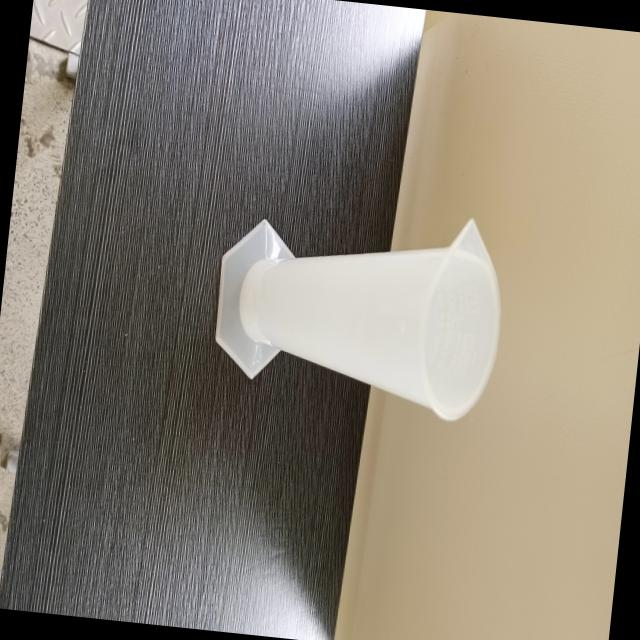graduated_cylinder: (192, 181, 538, 471)
